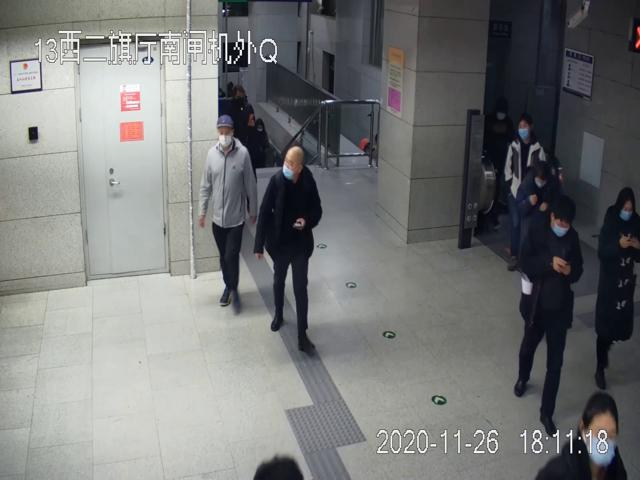person: (515, 195, 582, 440), (256, 144, 323, 359), (198, 113, 256, 313)
